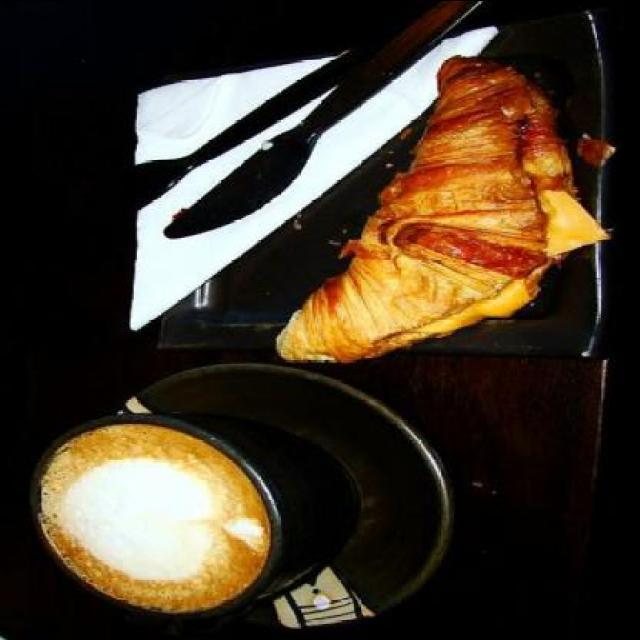Croissant: (273, 54, 610, 363)
